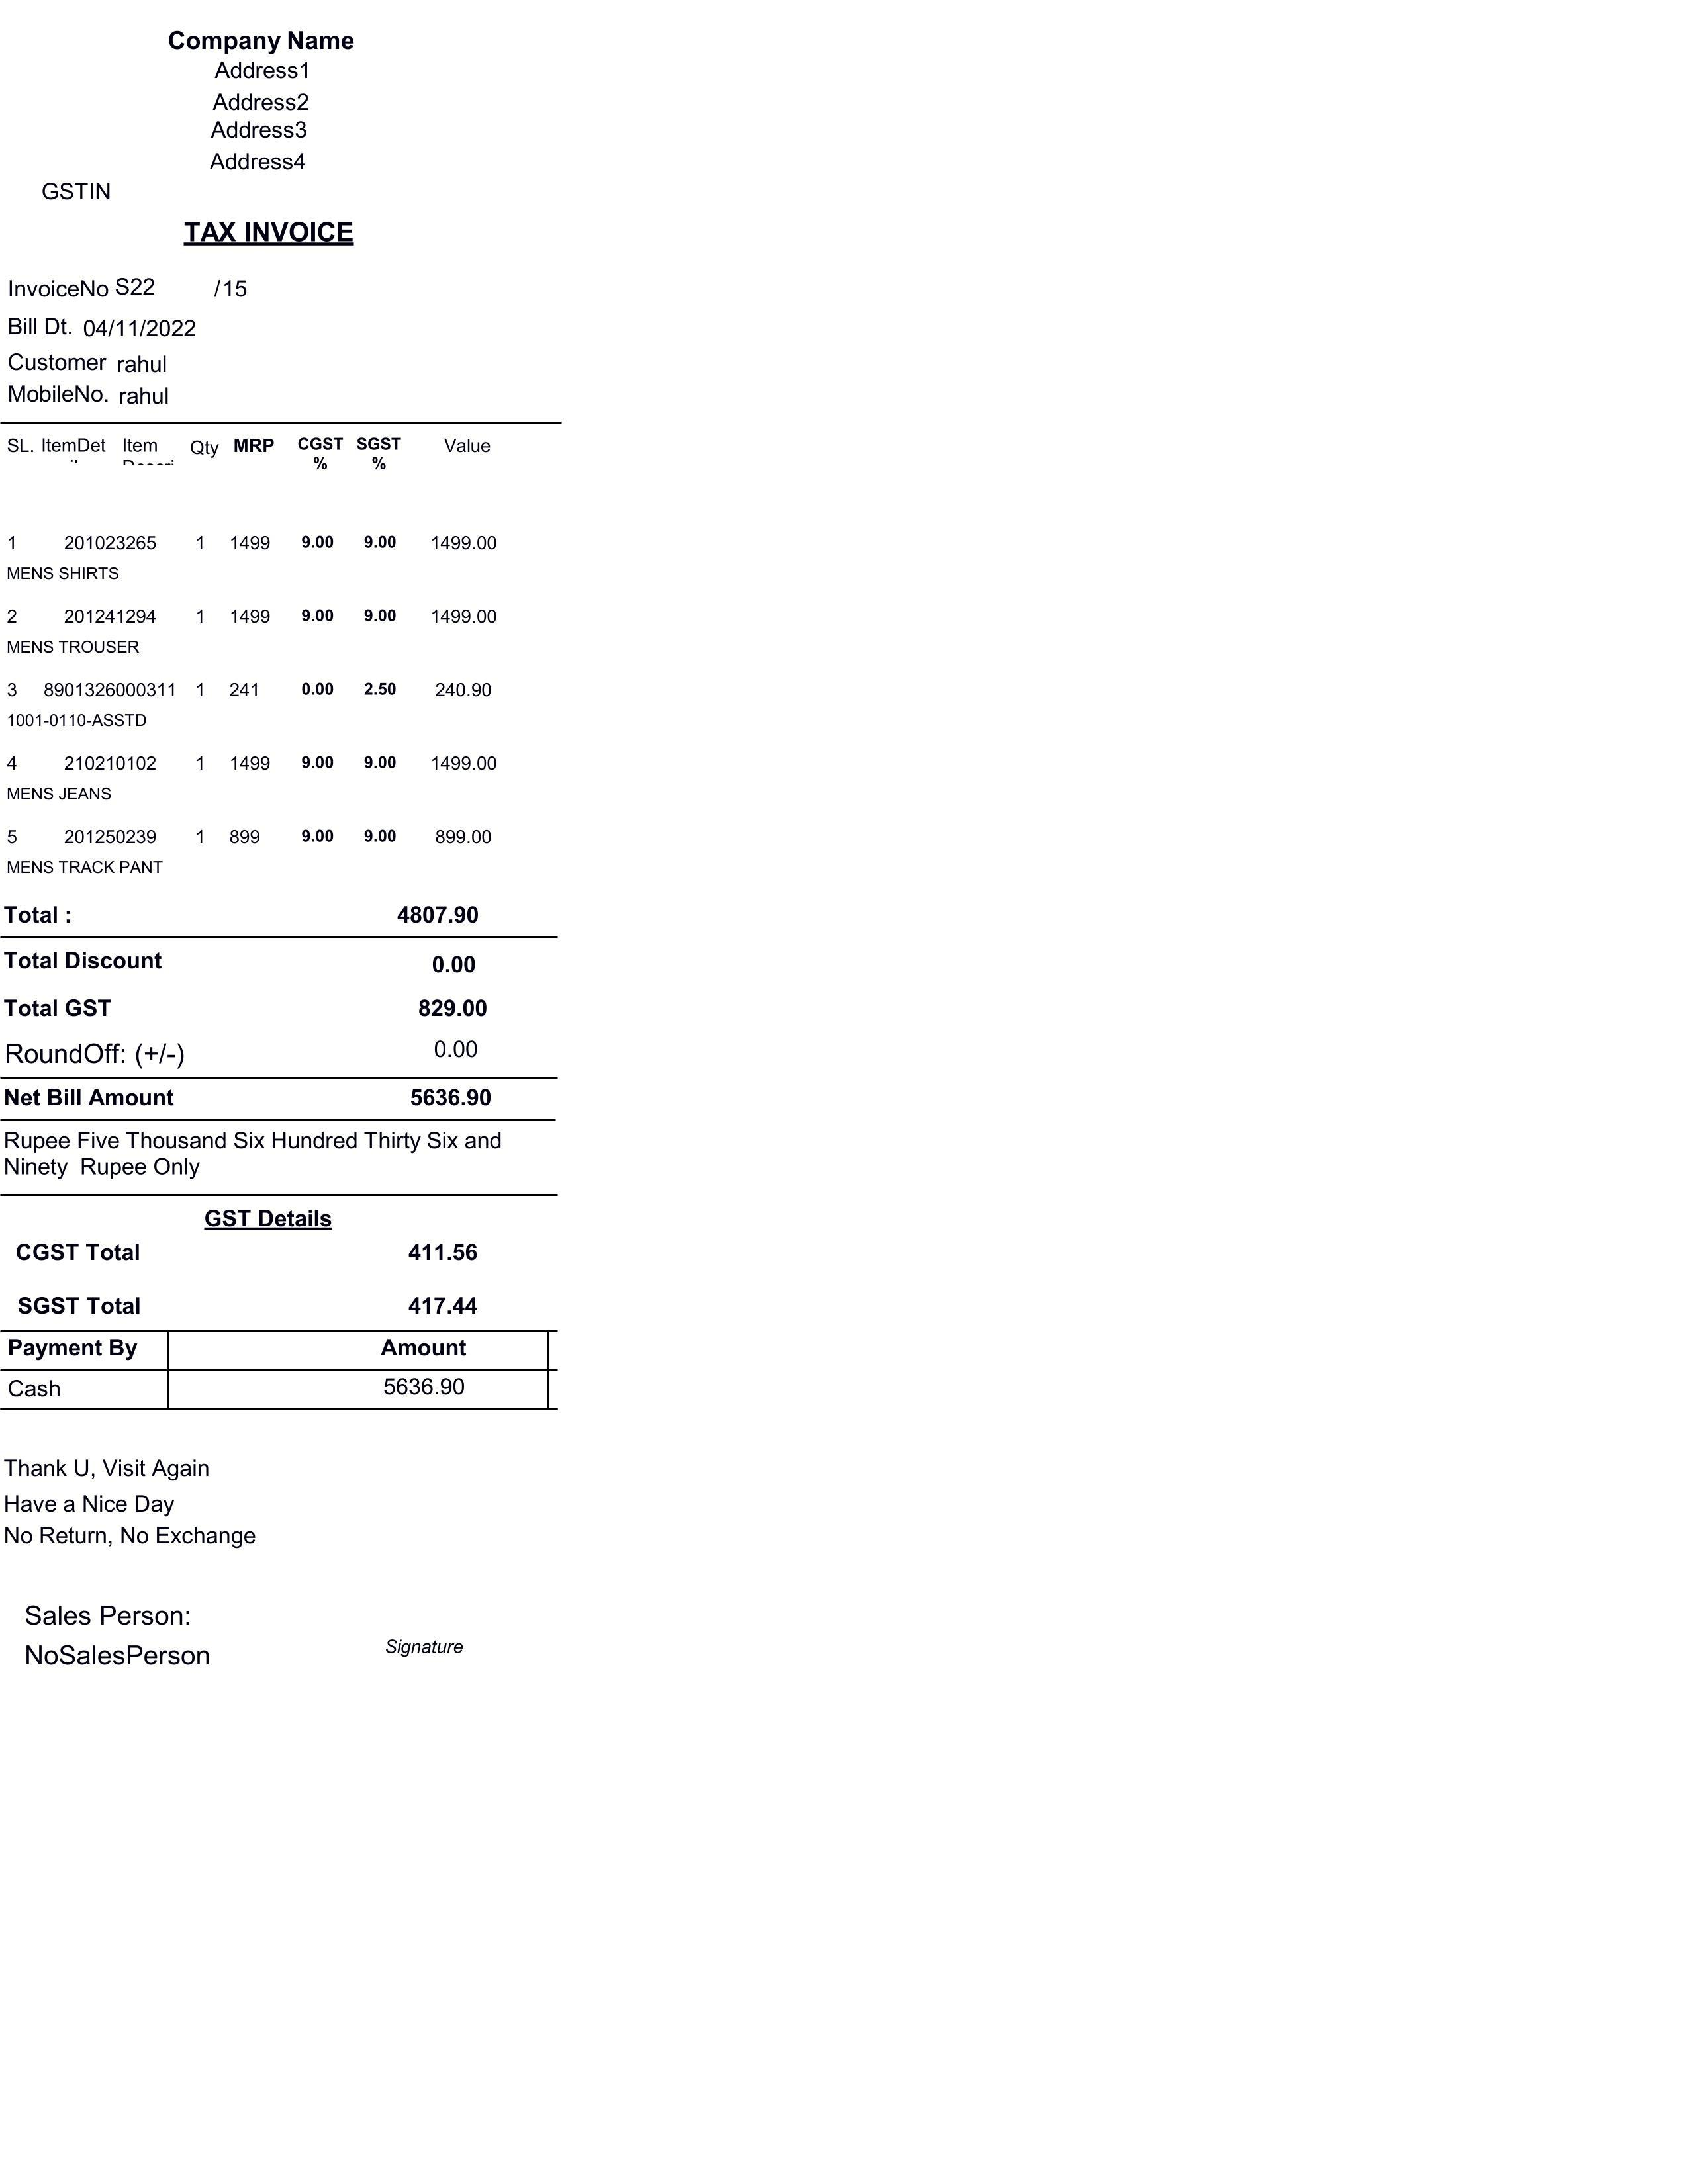InvoiceDate: (82, 312, 202, 344)
InvoiceNumber: (112, 271, 259, 301)
TotalAmount: (406, 1081, 496, 1111)
